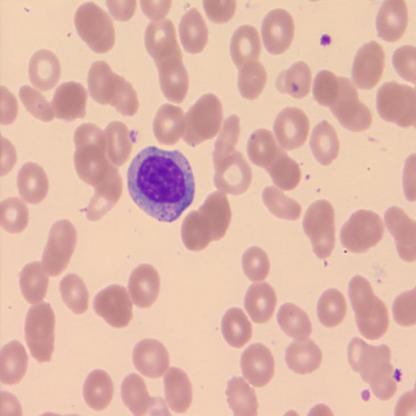Metamyelocyte: (128, 142, 197, 223)
